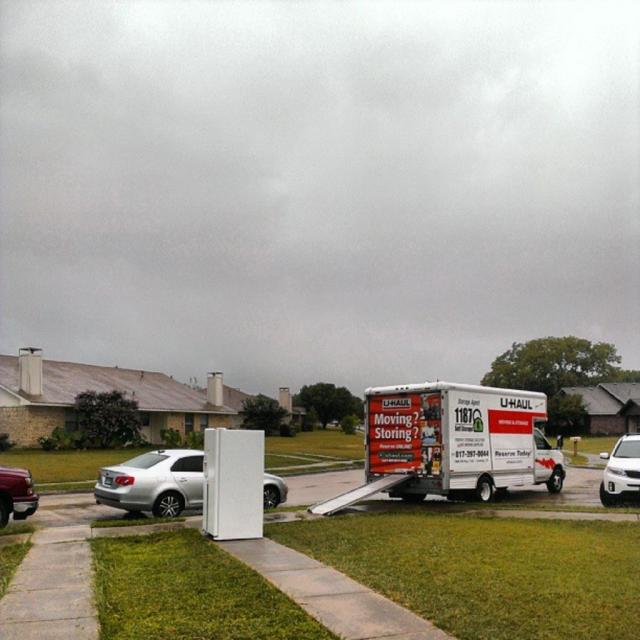Heavy Duty Truck: (364, 378, 572, 508)
Passenger Car: (95, 448, 288, 518), (596, 434, 640, 510), (1, 459, 38, 533)
